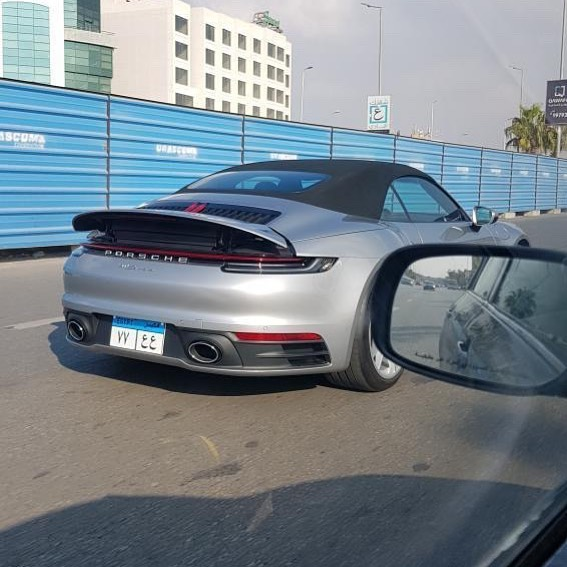carpl: (101, 307, 168, 358)
